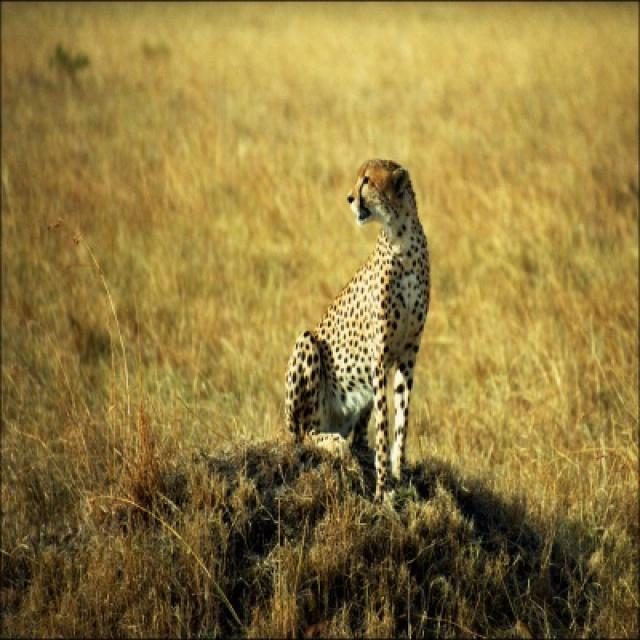Cheetah: (283, 158, 431, 498)
